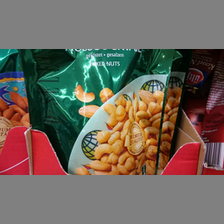nuts: (19, 49, 175, 175)
